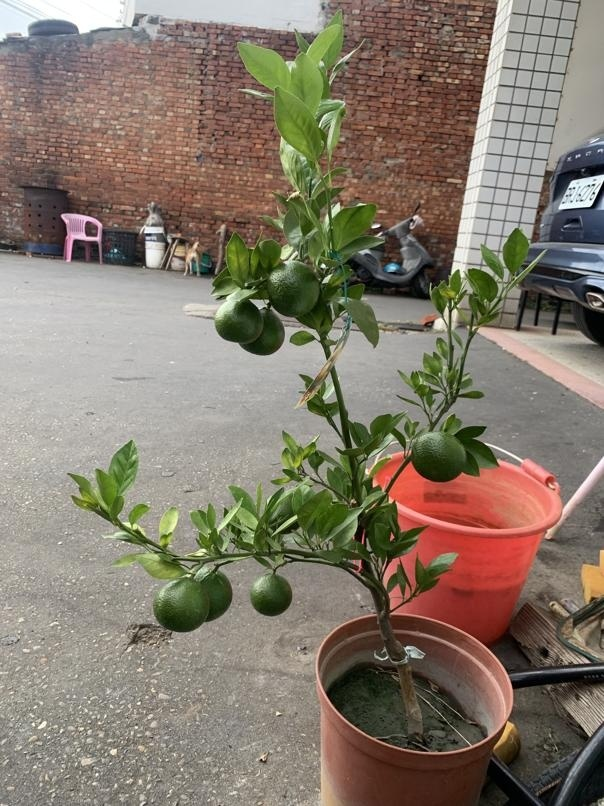Tangerine: (153, 572, 210, 633), (408, 428, 467, 485), (267, 262, 322, 319), (211, 295, 264, 344), (248, 568, 294, 617)
